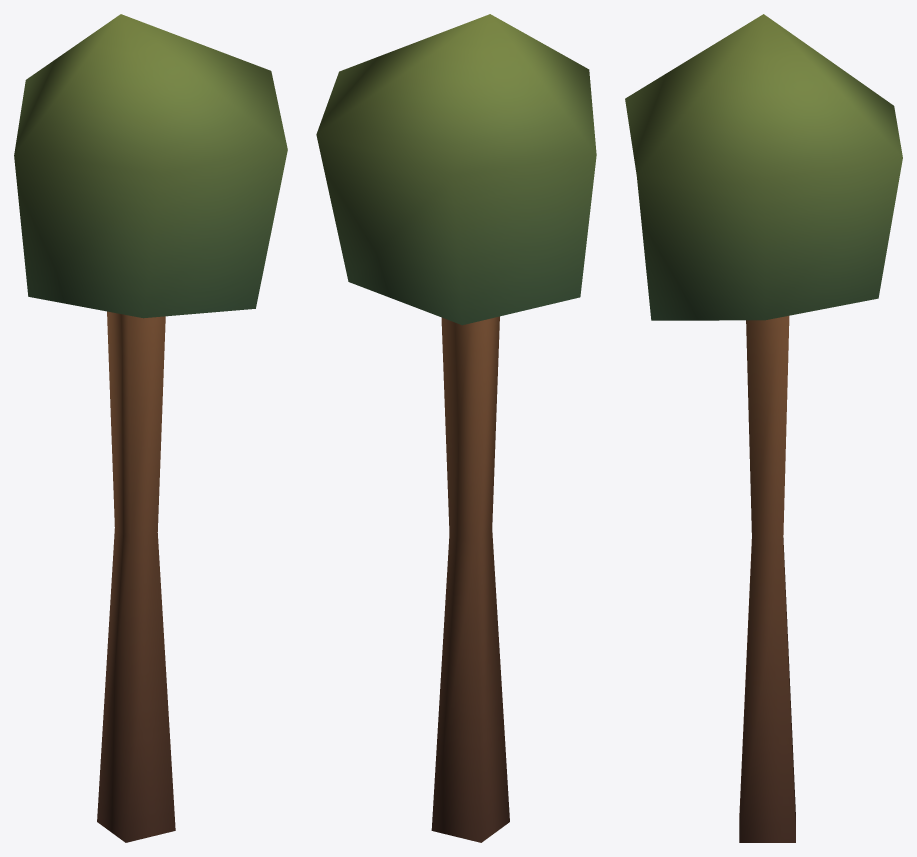
File: TreeHigh003.glb
3 views of the same model, side by side, from view 1: azimuth 30°, elevation 25°; view 2: azimuth 150°, elevation 25°; view 3: azimuth 270°, elevation 25° (orthographic).
Visible parts, largest first — view 1: TreeHigh003; view 2: TreeHigh003; view 3: TreeHigh003.
Boxes of the visible parts, x1,y1,x2,y2 form: TreeHigh003: (14,14,287,842); TreeHigh003: (316,14,596,842); TreeHigh003: (625,14,902,842).
Size of the model in its own units: 264 by 801 by 249.
Materials: 1 (1 with a texture image).
